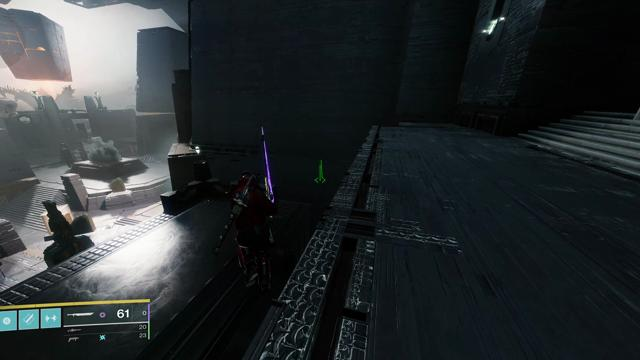commune: (19, 116, 31, 125)
